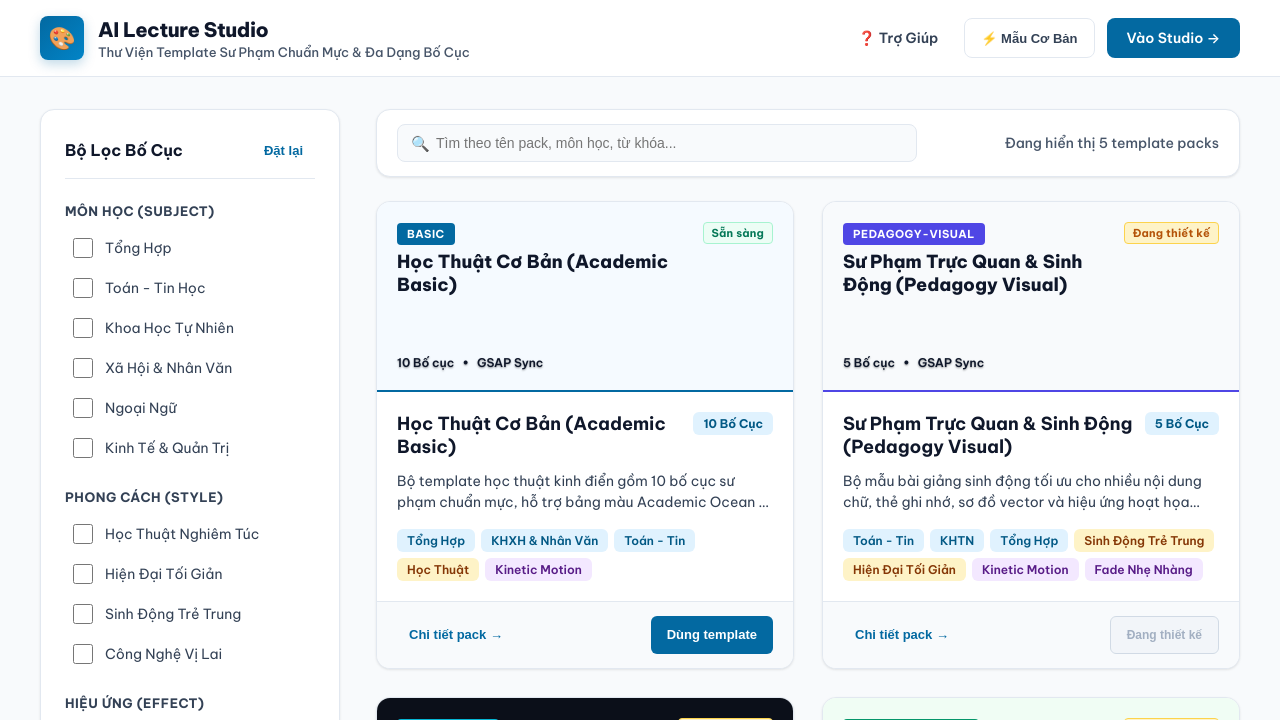
Test: GalleryPage Accessibility (a11y) Verification › ensures drawer overlay has no dangling aria-labelledby when closed, and valid dialog attributes when open
# Open drawer by clicking first card
Click the element that starts with "BASIC" at [585, 435], box [376,201,794,669]
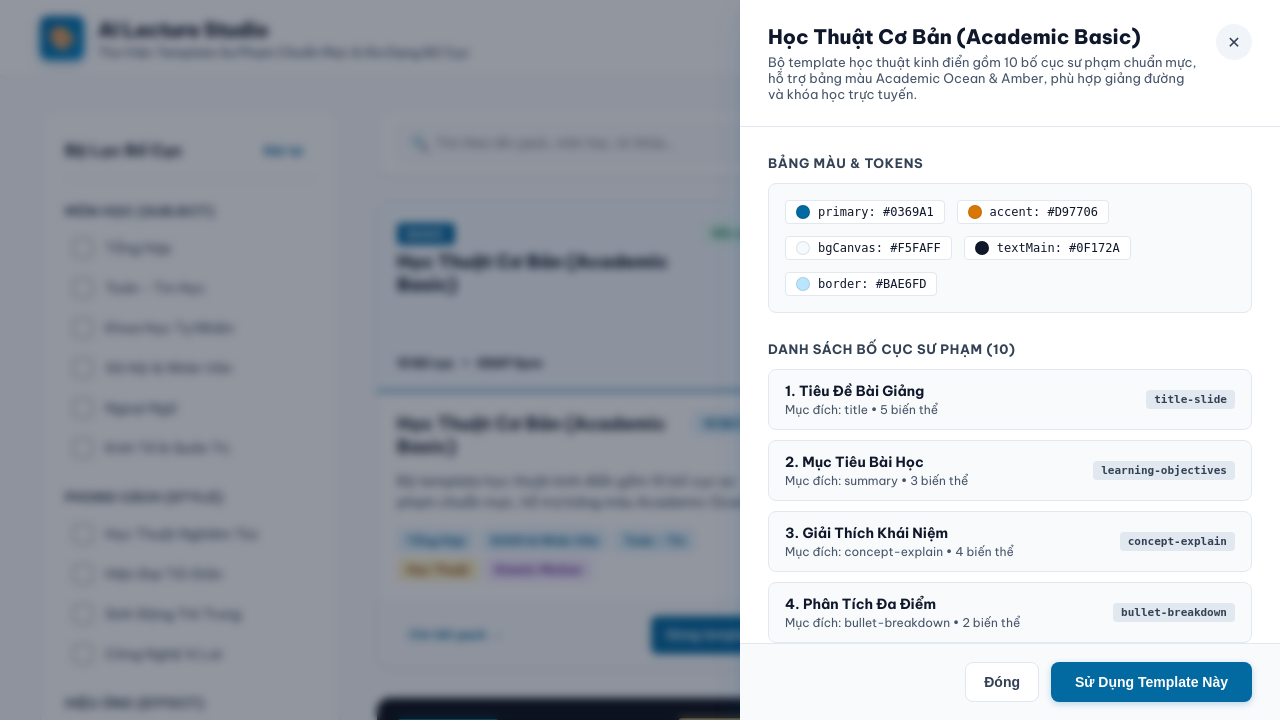
Expected: the heading "Học Thuật Cơ Bản (Academic Basic)" is shown, [768,24,1200,50]
